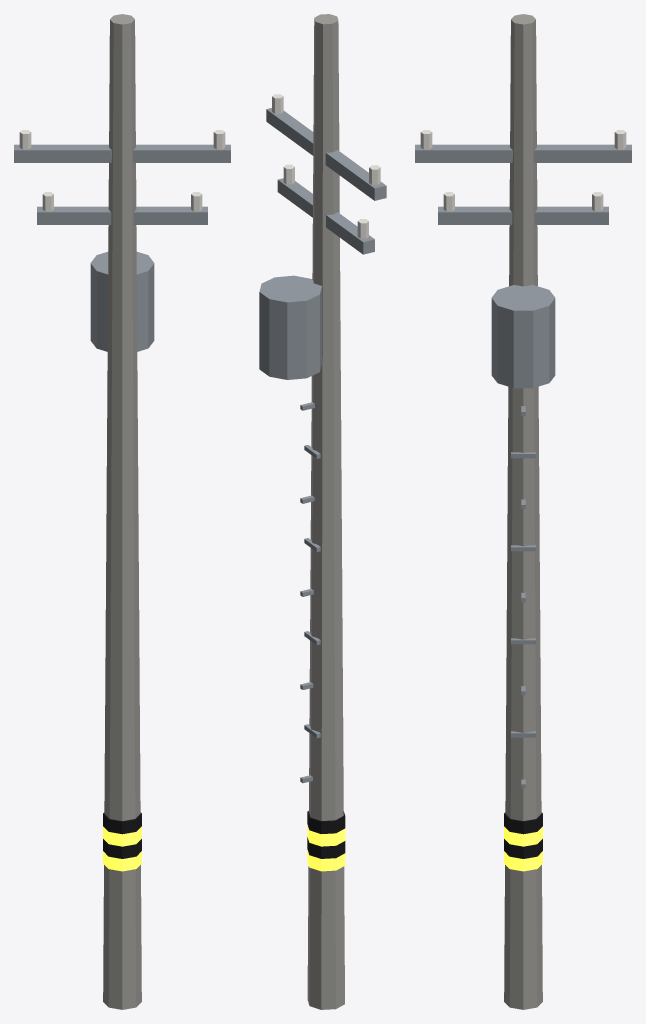
File: elstolpe.glb
The picture shows the model from 3 angles, left to right: view 1: azimuth 90°, elevation 25°; view 2: azimuth 210°, elevation 25°; view 3: azimuth 270°, elevation 25°; orthographic projection.
Parts seen in each view (by area): view 1: elstolpe; view 2: elstolpe; view 3: elstolpe.
Part boxes in pixels (x1,y1,x2,y2): elstolpe: (14,14,230,1009); elstolpe: (259,14,386,1009); elstolpe: (415,14,631,1009).
Bounding box in the file's own units: 0.7983 × 9.5 × 1.9.
